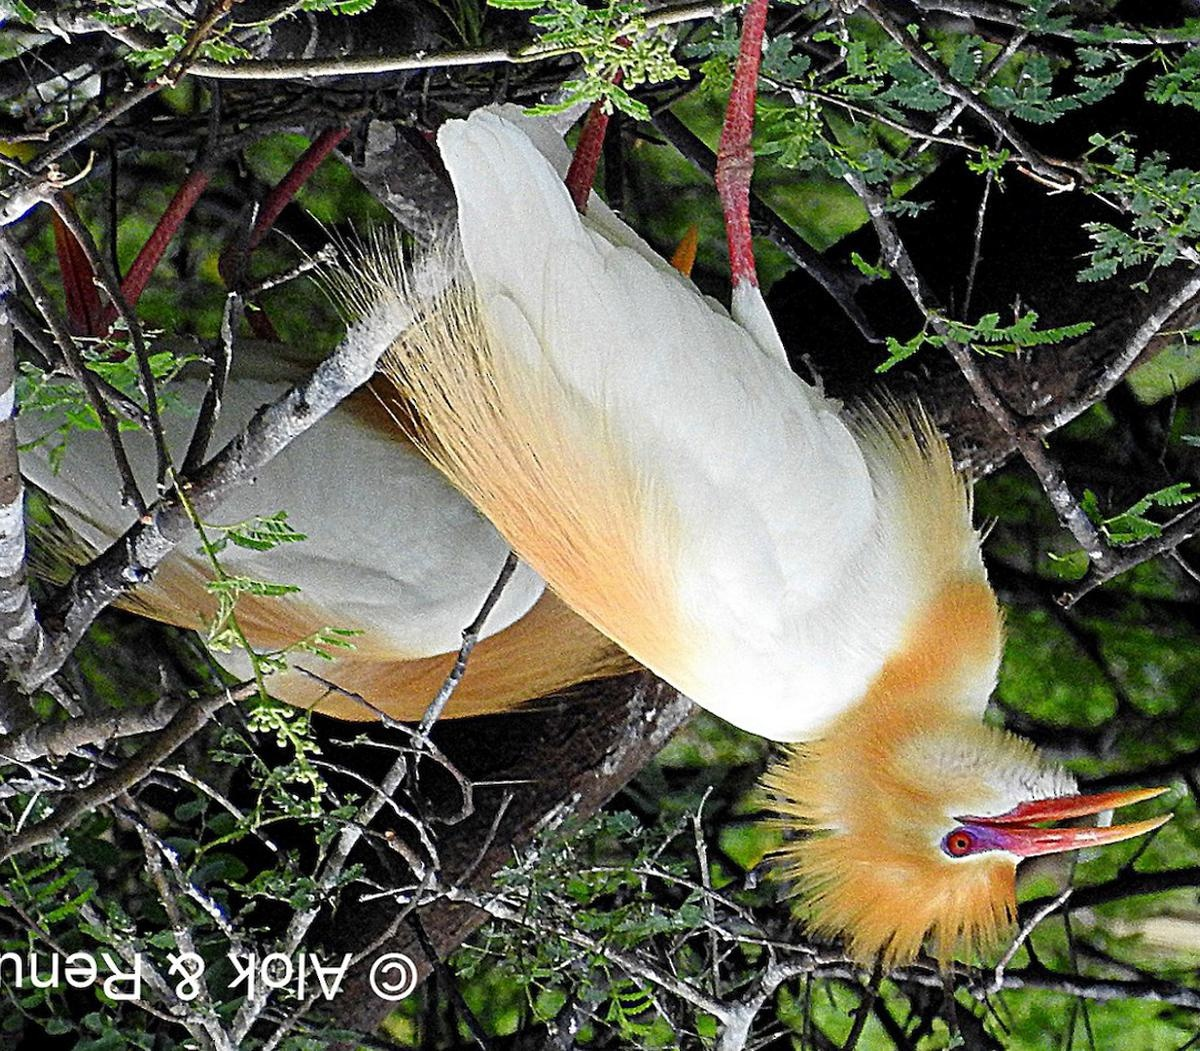egret: (376, 69, 1174, 953)
